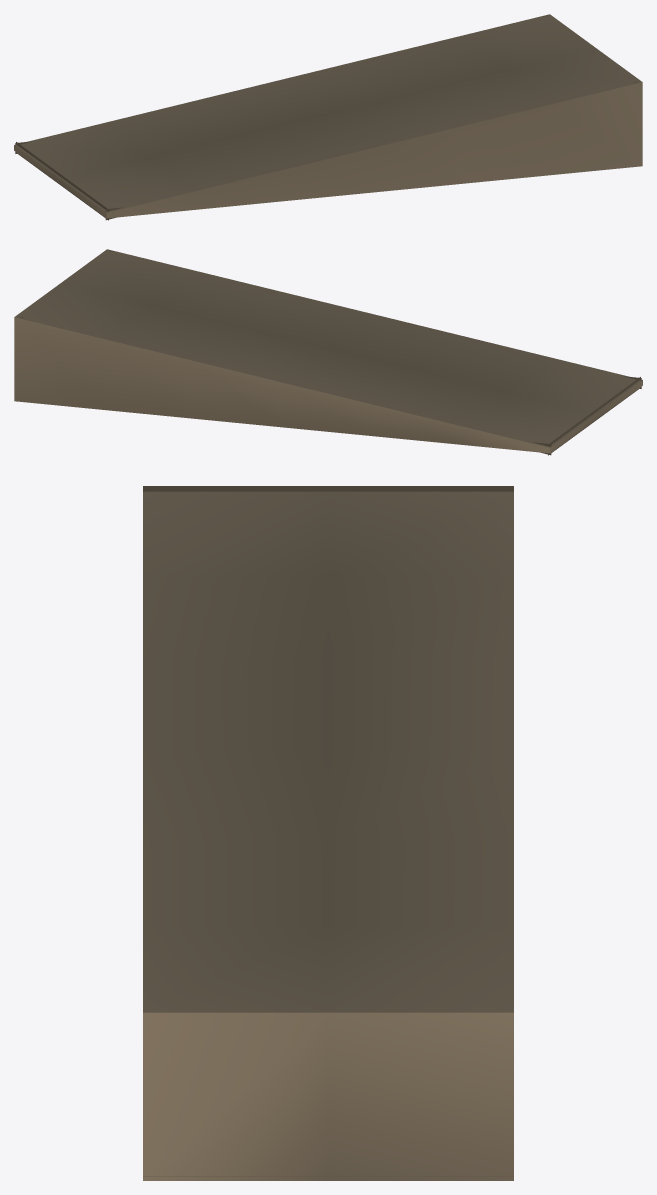
File: wedge.glb
3 renders of one model, top to bottom at view 1: azimuth 30°, elevation 25°; view 2: azimuth 150°, elevation 25°; view 3: azimuth 270°, elevation 25°, orthographic. The views are drawn at different scales.
Visible parts, largest first — view 1: wedge; view 2: wedge; view 3: wedge.
Part boxes in pixels (x1,y1,x2,y2): wedge: (14, 14, 642, 220); wedge: (14, 249, 642, 455); wedge: (143, 486, 513, 1180).
Size of the model in its own units: 0.1001 by 0.0155 by 0.03.
